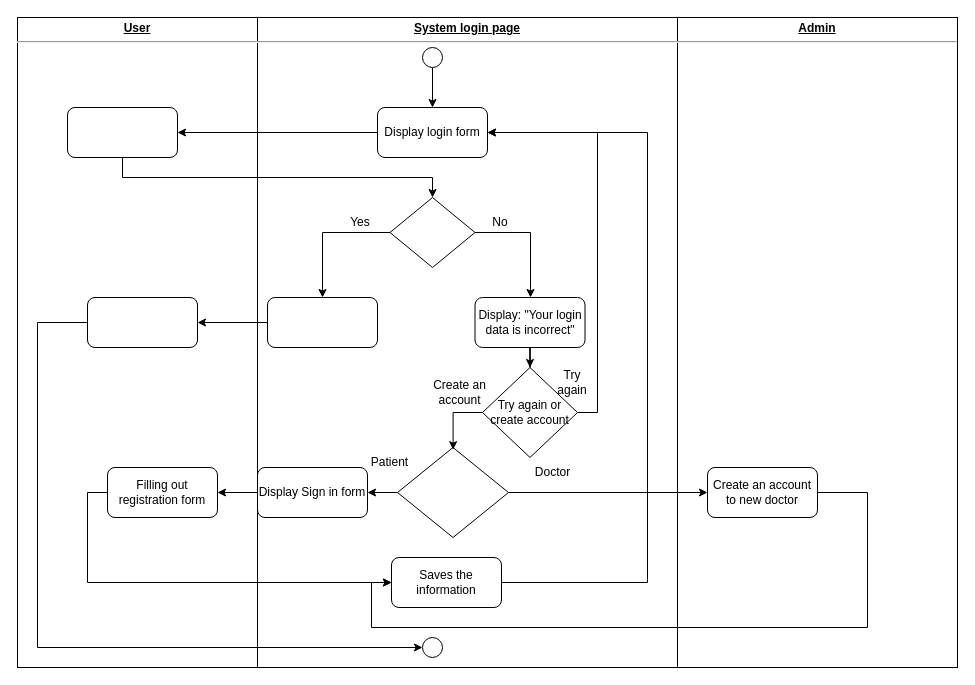
Image size: 975x685. Some labels were removed from this diagram. Here are the shapes that lost their labels. From the top down, the centre of each, then its label:
[122,132]: Fills the login form
[432,232]: Information valid
[142,322]: Proceeds to transaction
[322,322]: Display: "Succesed logged in"
[452,492]: Patient or doctor
